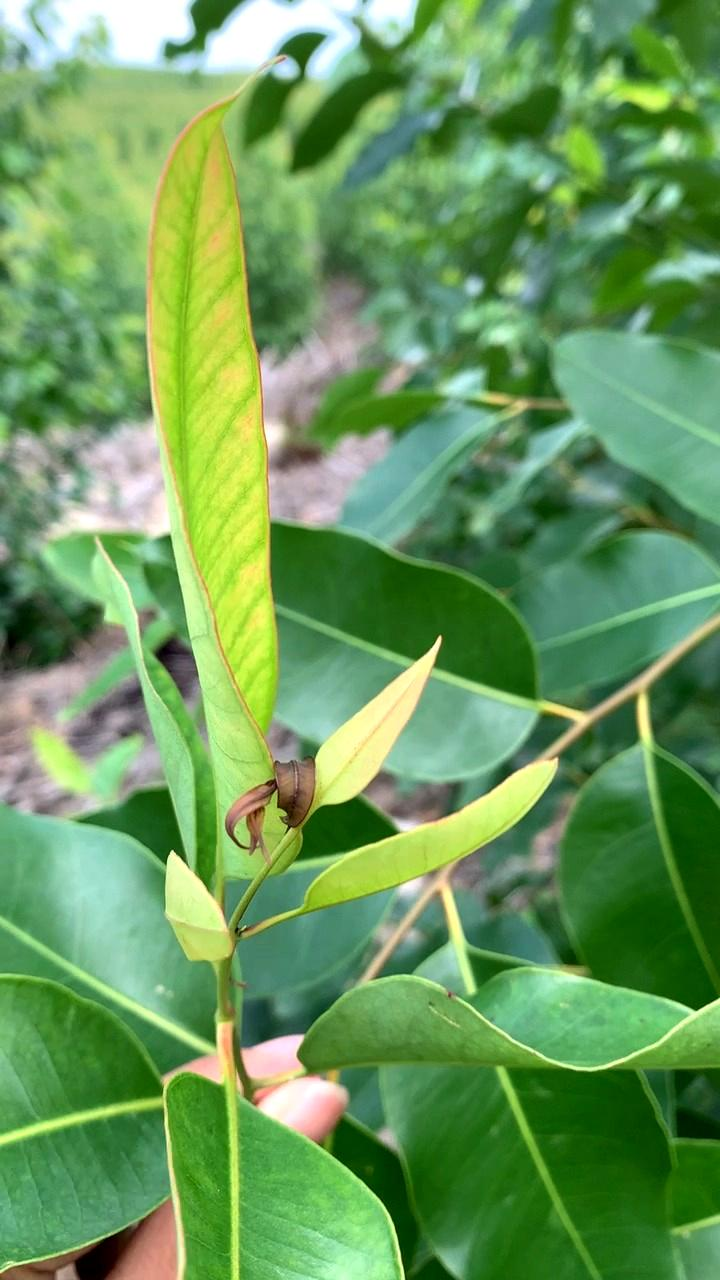Helopeltis-Withered Sprout: (220, 747, 320, 846)
